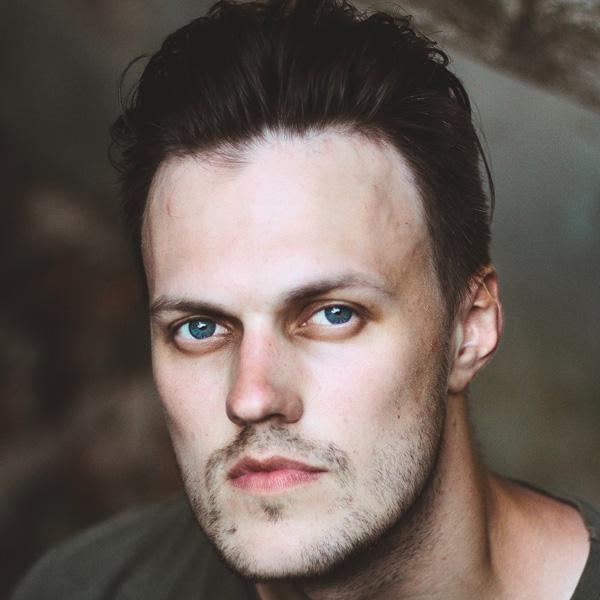Eyes: (287, 292, 374, 348), (160, 308, 238, 356)
